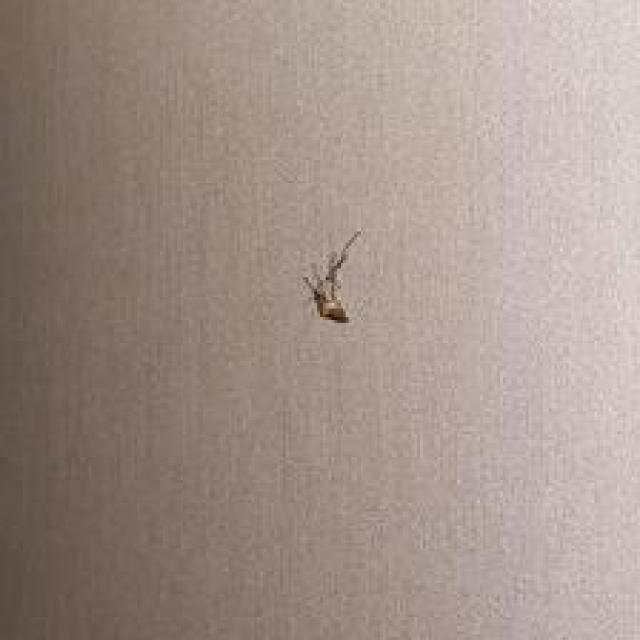Culex: (300, 227, 363, 324)
